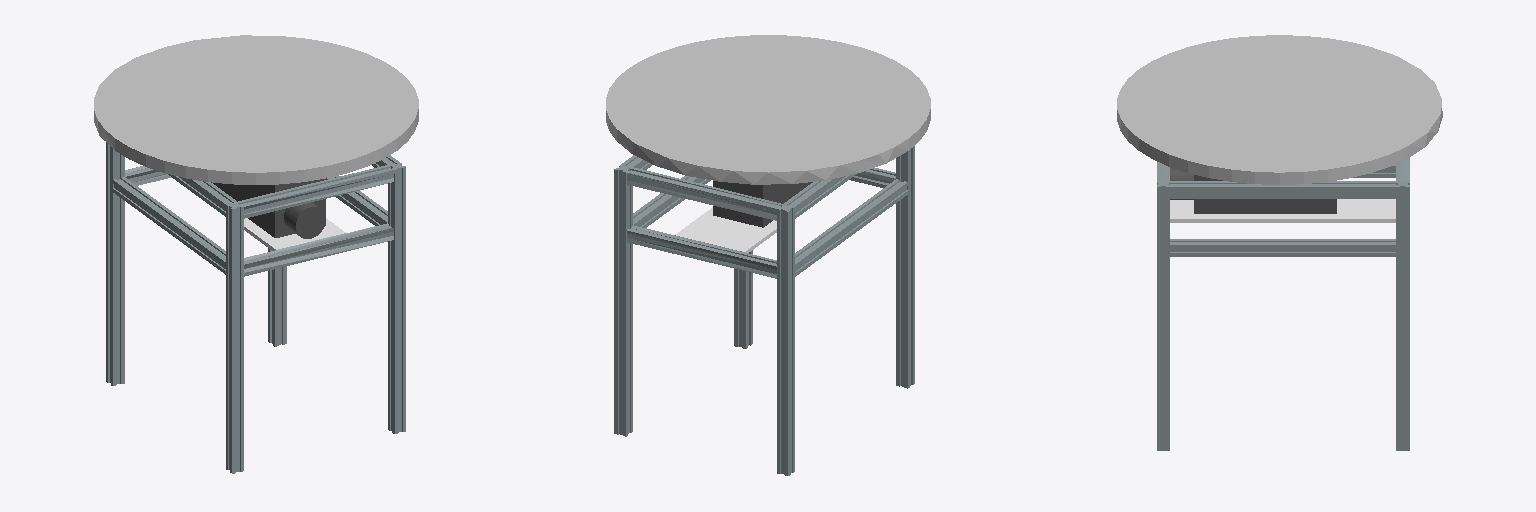
Rendered from CircularDriveTable.obj.
3 views of the same model, side by side, from view 1: azimuth 30°, elevation 25°; view 2: azimuth 150°, elevation 25°; view 3: azimuth 270°, elevation 25° (orthographic).
Visible parts, largest first — view 1: Body__149_, Body__139_, Body__148_, Body__146_; view 2: Body__149_, Body__139_, Body__146_, Body__148_; view 3: Body__149_, Body__139_, Body__146_, Body__148_.
Part boxes in pixels (x1,y1,x2,y2): Body__149_: (94, 35, 418, 184); Body__139_: (106, 142, 405, 473); Body__148_: (211, 179, 325, 238); Body__146_: (244, 218, 345, 250); Body__149_: (606, 35, 930, 184); Body__139_: (614, 146, 914, 475); Body__146_: (675, 207, 776, 252); Body__148_: (713, 181, 812, 227); Body__149_: (1117, 35, 1442, 184); Body__139_: (1157, 157, 1409, 450); Body__146_: (1170, 199, 1395, 222); Body__148_: (1170, 167, 1336, 213).
Bounding box in the file's own units: 0.9534 × 0.983 × 0.9532.